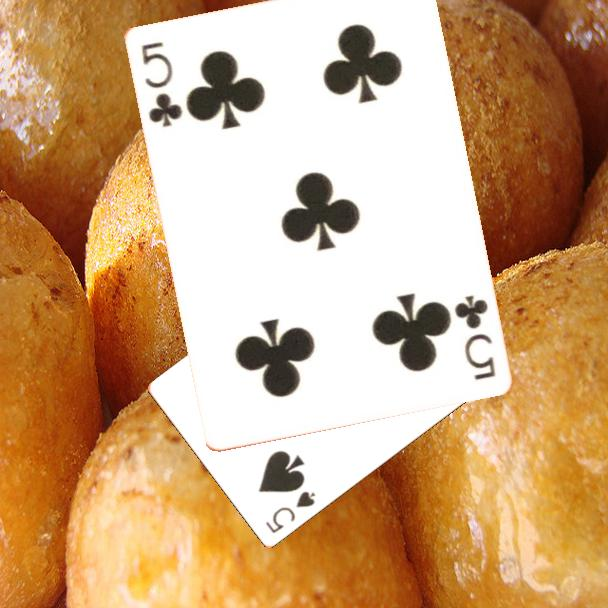c05: (137, 37, 185, 130), (450, 291, 498, 383)
s05: (262, 488, 318, 537)
